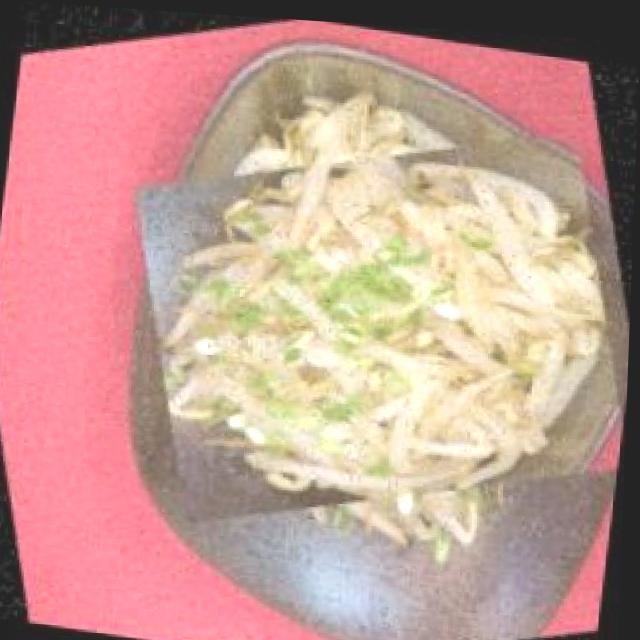mung_bean_sprouts: (114, 45, 639, 597)
